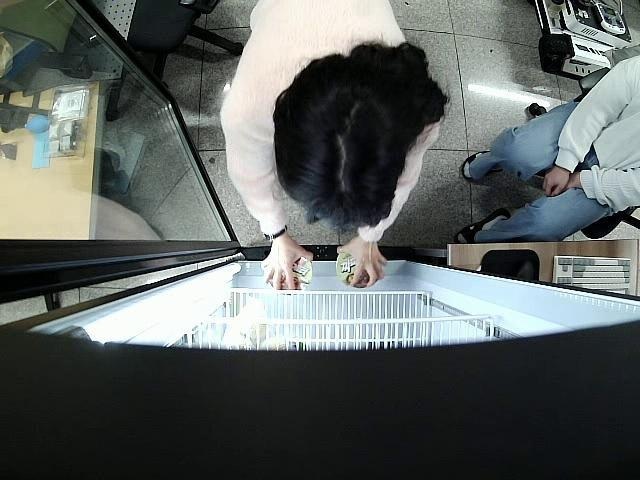03_chapagetti_L: (268, 254, 314, 295), (336, 248, 368, 291)
